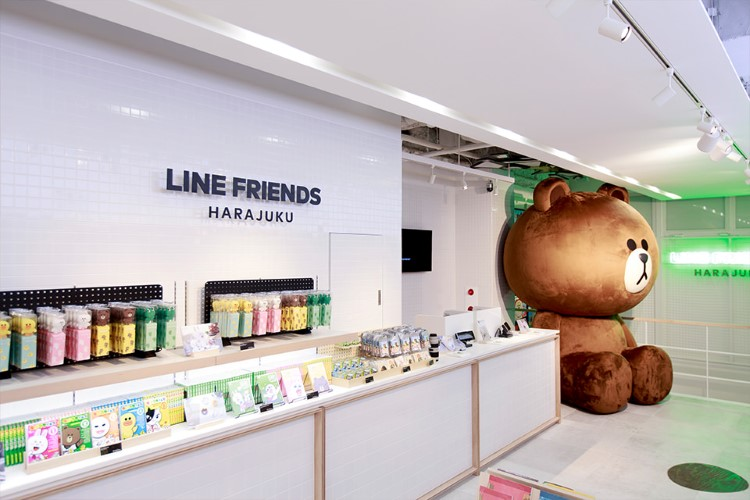line_brown: (495, 173, 670, 321)
